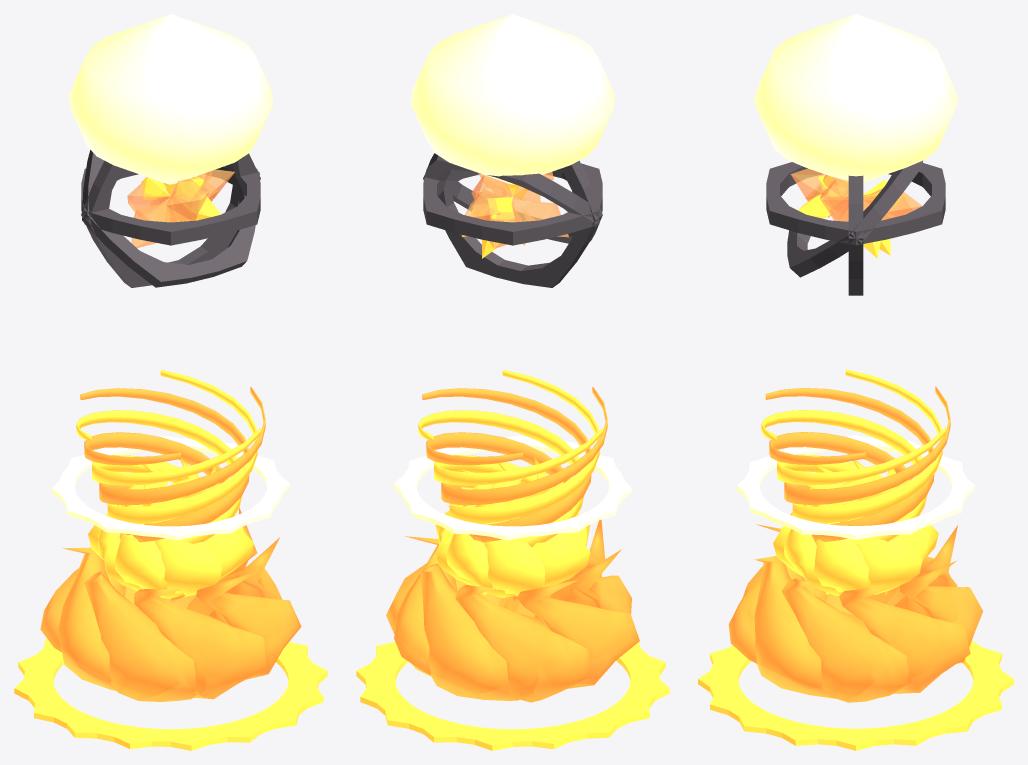
Rendered from hellfire_explosion_anim.glb.
3 renders of one model, left to right at view 1: azimuth 30°, elevation 25°; view 2: azimuth 150°, elevation 25°; view 3: azimuth 270°, elevation 25°, orthographic.
Parts seen in each view (by area): view 1: PlasmaCoreFlash, MagmaWave_A, FireCrownOut_5, FireCrownOut_6, FireCrownOut_4, MagmaWave_B, FireCrownOut_7, BrokenCage_0, BrokenCage_1, BrokenCage_2, FlamePillar_5, FireCrownOut_0 (+16 smaller); view 2: PlasmaCoreFlash, MagmaWave_A, FireCrownOut_2, FireCrownOut_3, FireCrownOut_4, MagmaWave_B, BrokenCage_0, BrokenCage_2, FireCrownOut_5, FireCrownOut_1, FlamePillar_3, FlamePillar_4 (+14 smaller); view 3: PlasmaCoreFlash, MagmaWave_A, FireCrownOut_0, FireCrownOut_7, FireCrownOut_1, BrokenCage_0, MagmaWave_B, FireCrownOut_2, FlamePillar_1, BrokenCage_1, FlamePillar_2, FlamePillar_4 (+17 smaller).
Part boxes in pixels (box(x1,y1,x2,y2)): PlasmaCoreFlash: box(68, 14, 273, 184); MagmaWave_A: box(14, 638, 327, 750); FireCrownOut_5: box(84, 571, 204, 701); FireCrownOut_6: box(134, 588, 269, 699); FireCrownOut_4: box(58, 547, 179, 696); MagmaWave_B: box(52, 435, 289, 540); FireCrownOut_7: box(196, 571, 301, 683); BrokenCage_0: box(81, 166, 260, 245); BrokenCage_1: box(82, 150, 259, 287); BrokenCage_2: box(81, 153, 260, 287); FlamePillar_5: box(107, 370, 257, 523); FireCrownOut_0: box(187, 537, 282, 638); PlasmaCoreFlash: box(410, 14, 615, 184); MagmaWave_A: box(356, 642, 669, 750); FireCrownOut_2: box(420, 563, 538, 700); FireCrownOut_3: box(455, 585, 590, 702); FireCrownOut_4: box(517, 580, 639, 689); MagmaWave_B: box(394, 435, 631, 540); BrokenCage_0: box(423, 163, 602, 245); BrokenCage_2: box(423, 160, 602, 287); FireCrownOut_5: box(534, 549, 631, 659); FireCrownOut_1: box(394, 536, 502, 693); FlamePillar_3: box(449, 370, 599, 523); FlamePillar_4: box(422, 388, 591, 542); PlasmaCoreFlash: box(753, 14, 958, 182); MagmaWave_A: box(698, 640, 1013, 750); FireCrownOut_0: box(781, 578, 910, 702); FireCrownOut_7: box(754, 556, 873, 698); FireCrownOut_1: box(839, 585, 970, 693); BrokenCage_0: box(766, 162, 945, 245); MagmaWave_B: box(737, 435, 974, 539); FireCrownOut_2: box(894, 560, 983, 677); FlamePillar_1: box(792, 369, 942, 594); BrokenCage_1: box(787, 160, 922, 277); FlamePillar_2: box(765, 388, 934, 541); FlamePillar_4: box(769, 432, 913, 480).
Bounding box in the file's own units: 0.059 × 0.1383 × 0.059.
